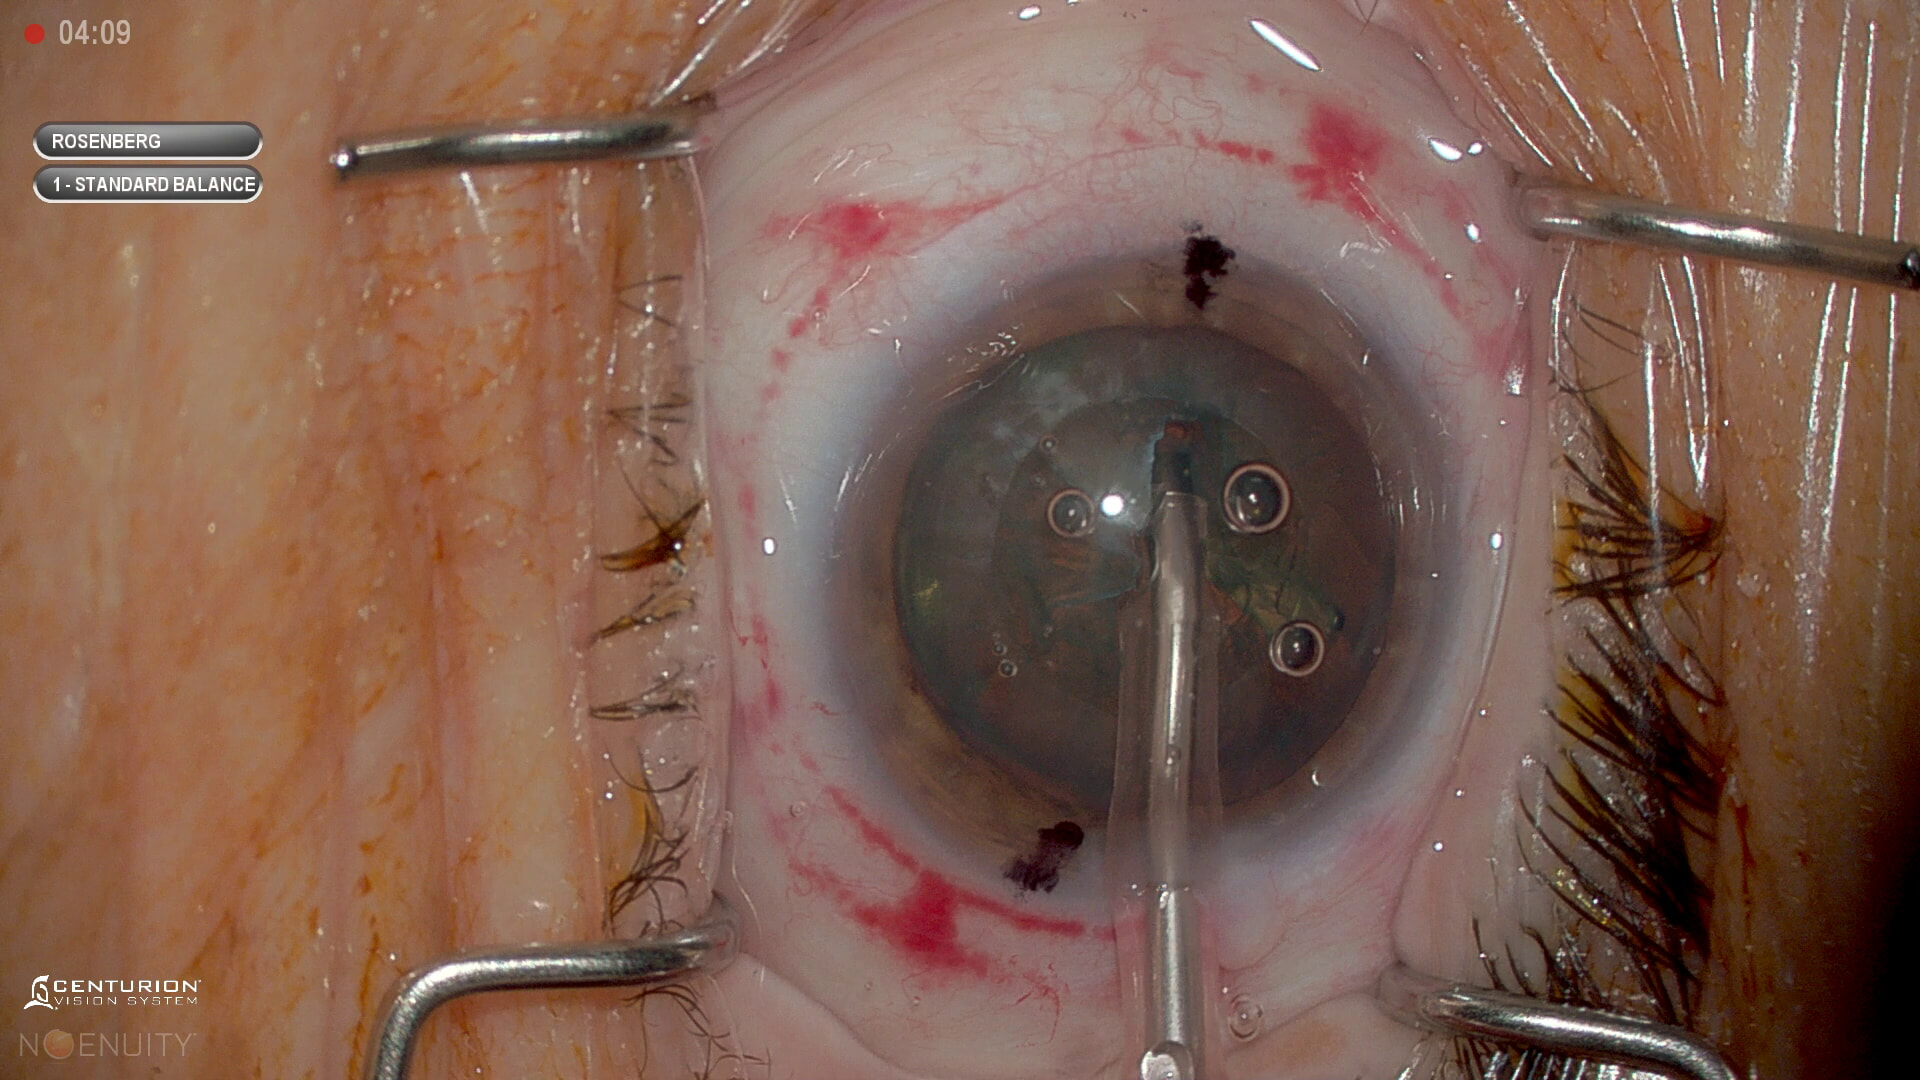iris: (847, 256, 1444, 850)
pupil: (894, 324, 1396, 821)
